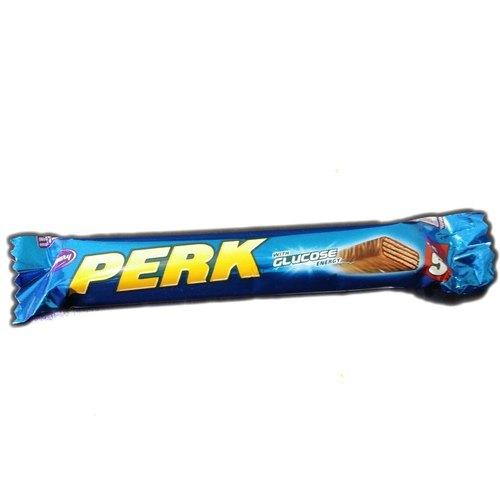Perk: (5, 206, 497, 327)
